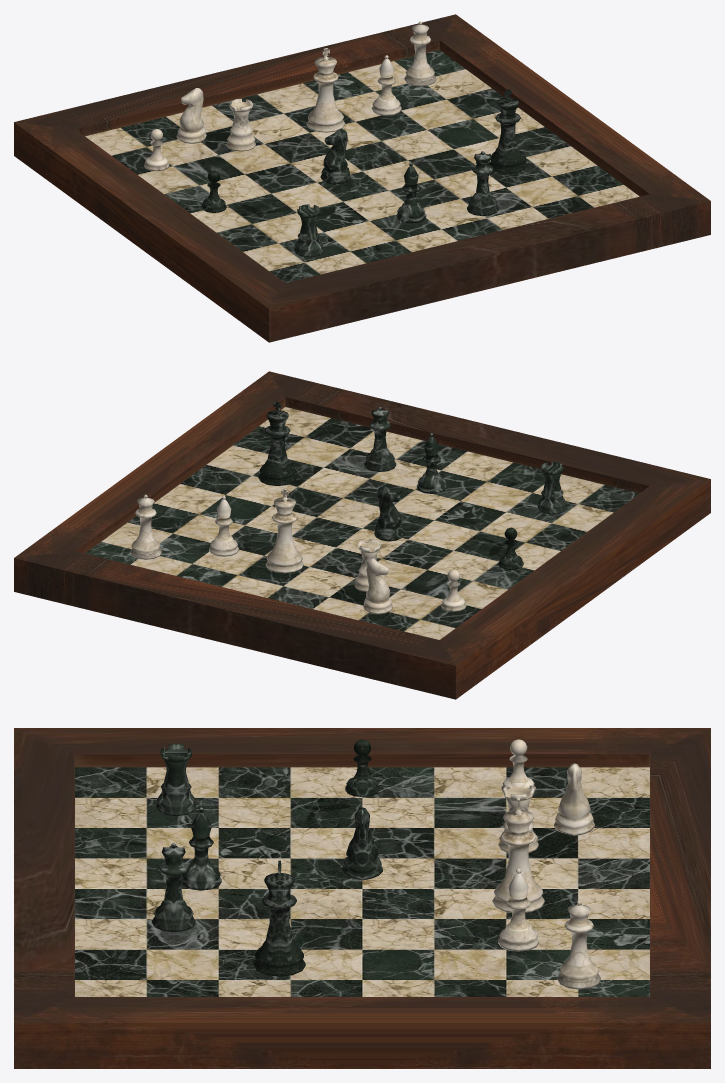
Rendered from decorative_chess_compressed.glb.
3 views of the same model, one above another, from view 1: azimuth 30°, elevation 25°; view 2: azimuth 150°, elevation 25°; view 3: azimuth 270°, elevation 25° (orthographic). The views are drawn at different scales.
Visible parts, largest first — view 1: defaultMaterial; view 2: defaultMaterial; view 3: defaultMaterial.
Part boxes in pixels (x1,y1,x2,y2): defaultMaterial: [14, 14, 710, 342]; defaultMaterial: [14, 371, 710, 699]; defaultMaterial: [14, 728, 710, 1068].
Bounding box in the file's own units: 2 × 0.4319 × 2.
Materials: 1 (1 with a texture image).
